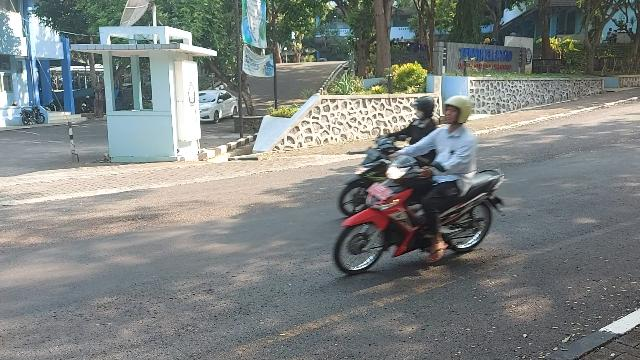helm: (444, 96, 472, 124), (411, 97, 435, 118)
motor: (336, 136, 507, 276)
